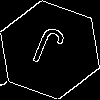J: (25, 25, 68, 77)
